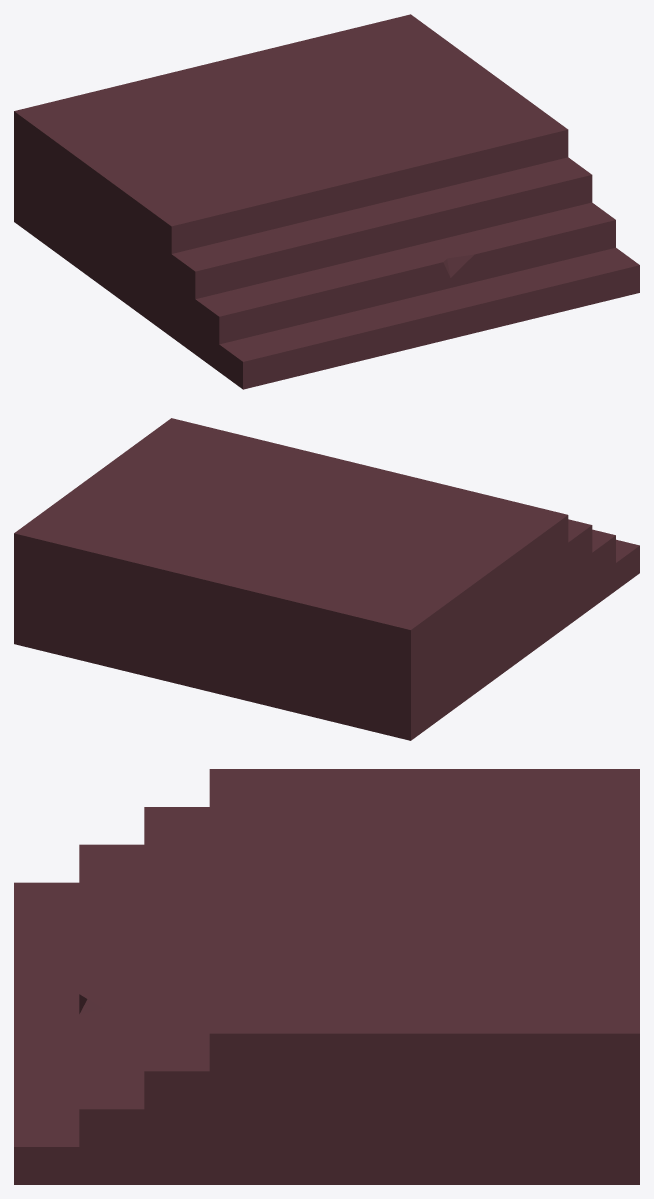
The model's file is empire-stairs-big-empire.glb.
3 views of the same model, one above another, from view 1: azimuth 30°, elevation 25°; view 2: azimuth 150°, elevation 25°; view 3: azimuth 270°, elevation 25° (orthographic). The views are drawn at different scales.
Parts seen in each view (by area): view 1: SM_Stairs_Big_Empire; view 2: SM_Stairs_Big_Empire; view 3: SM_Stairs_Big_Empire.
Part boxes in pixels (x1,y1,x2,y2): SM_Stairs_Big_Empire: [14, 14, 639, 389]; SM_Stairs_Big_Empire: [14, 418, 639, 740]; SM_Stairs_Big_Empire: [14, 769, 639, 1184].
Size of the model in its own units: 3 by 0.8 by 3.
